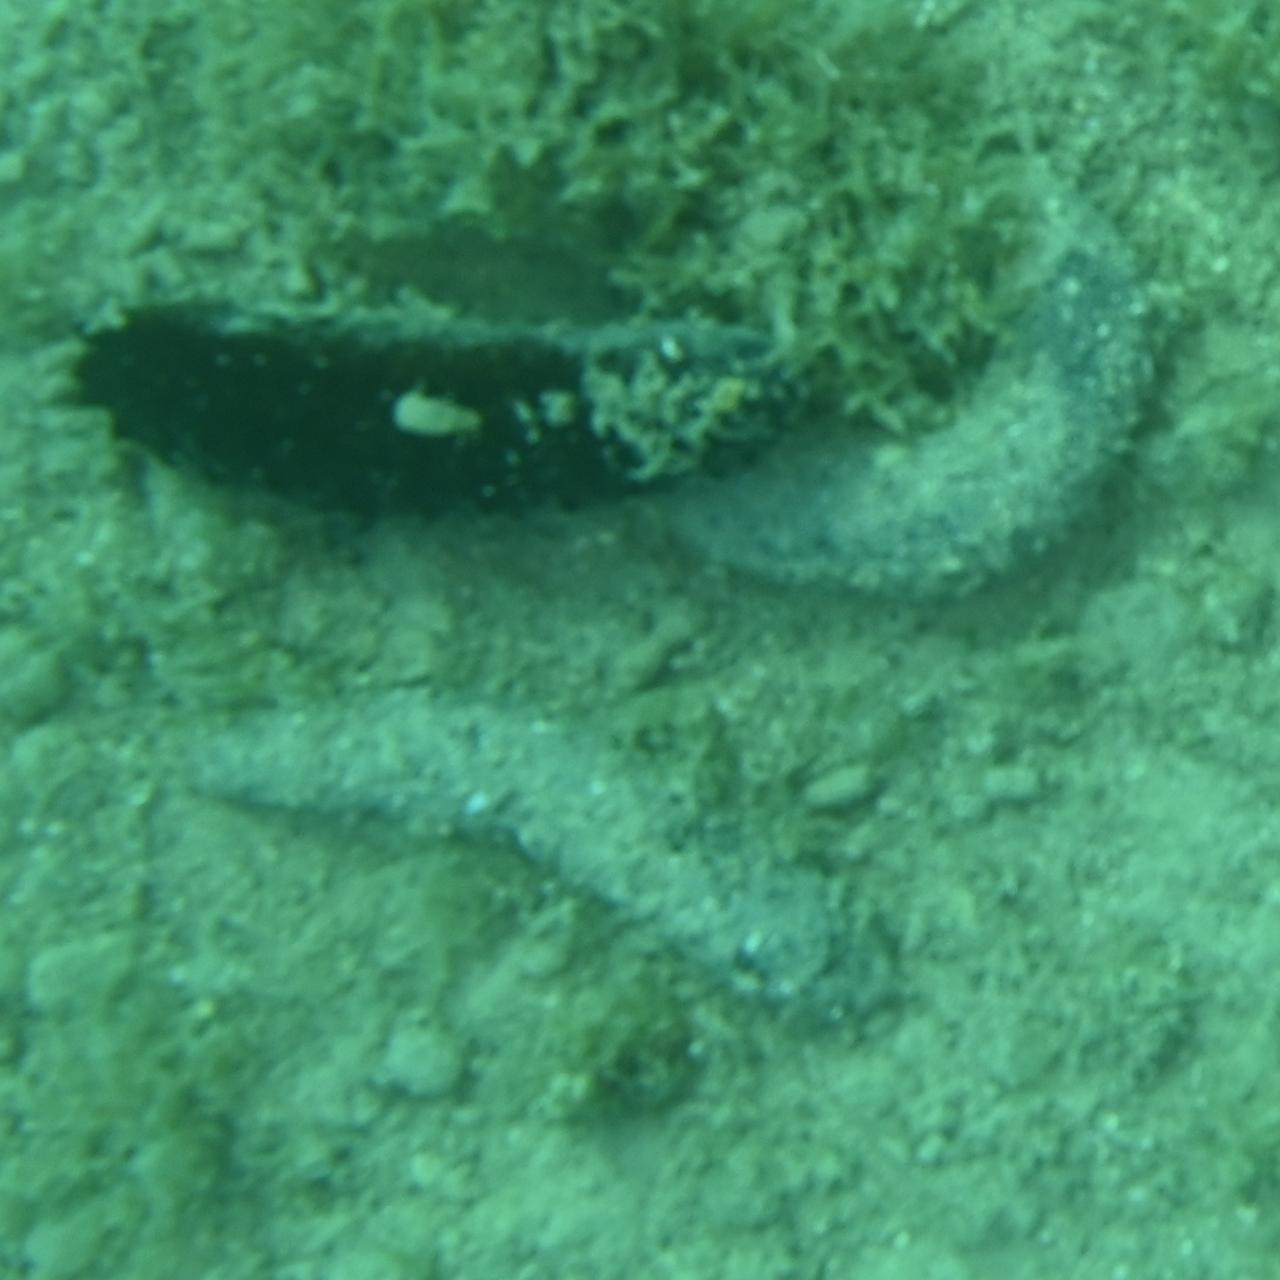Holothuria tubulosa: (537, 254, 1170, 606), (154, 713, 835, 1027), (27, 286, 830, 537)
